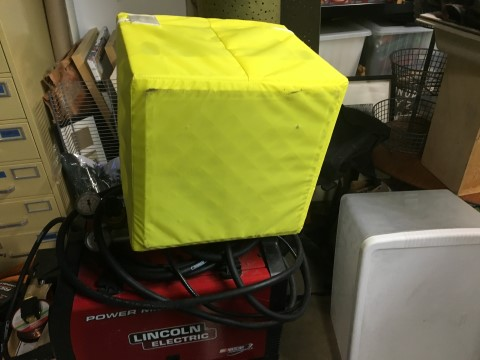cube: (115, 11, 348, 250)
